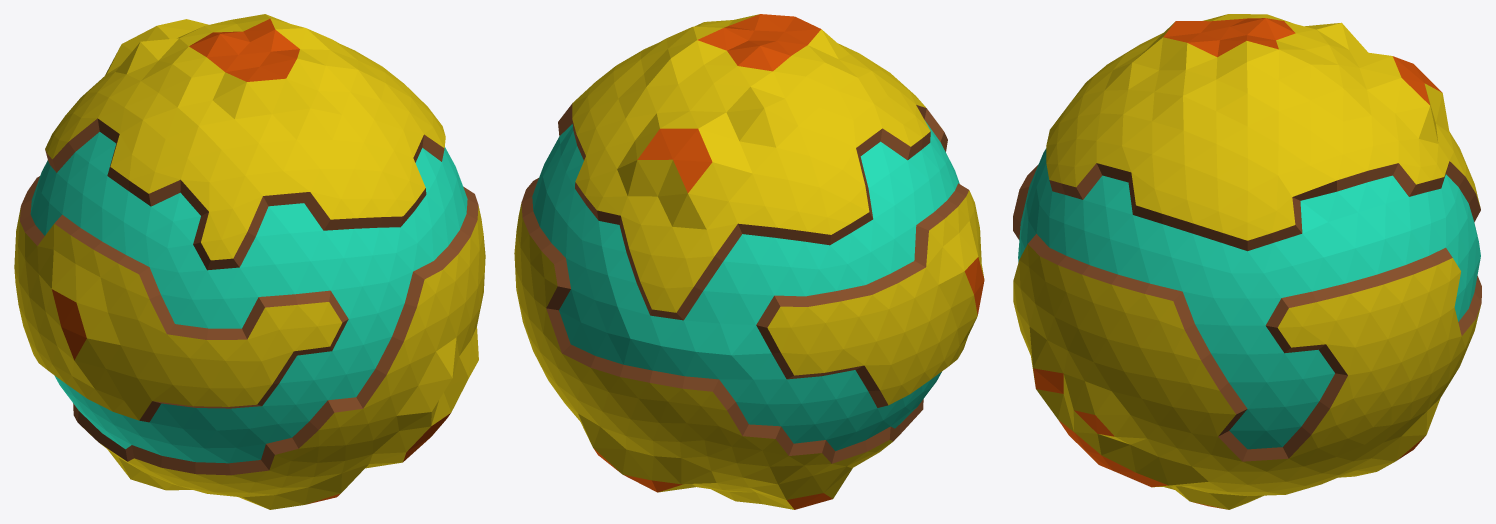
Rendered from planet.gltf.
3 renders of one model, left to right at view 1: azimuth 30°, elevation 25°; view 2: azimuth 150°, elevation 25°; view 3: azimuth 270°, elevation 25°, orthographic.
Parts seen in each view (by area): view 1: Icosphere; view 2: Icosphere; view 3: Icosphere.
Boxes of the visible parts, left/top/right/bottom form: Icosphere: left=14, top=14, right=485, bottom=509; Icosphere: left=514, top=14, right=984, bottom=509; Icosphere: left=1013, top=14, right=1481, bottom=509.
Size of the model in its own units: 10.41 by 10.96 by 10.21.
